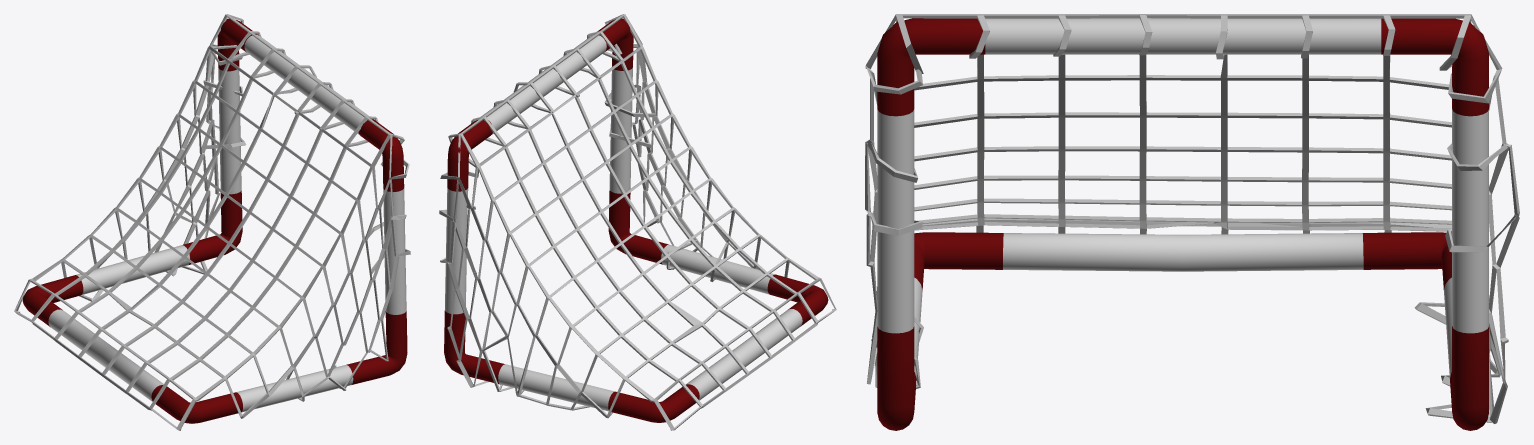
Rendered from kalklae.glb.
The picture shows the model from 3 angles, left to right: view 1: azimuth 30°, elevation 25°; view 2: azimuth 150°, elevation 25°; view 3: azimuth 270°, elevation 25°; orthographic projection. The views are drawn at different scales.
Visible parts, largest first — view 1: Net.2, Tube.1; view 2: Net.2, Tube.1; view 3: Tube.1, Net.2.
Boxes of the visible parts, bbox=[...] form: Net.2: bbox=[14, 14, 410, 430]; Tube.1: bbox=[22, 18, 407, 423]; Net.2: bbox=[439, 14, 836, 430]; Tube.1: bbox=[444, 18, 828, 422]; Tube.1: bbox=[877, 18, 1488, 430]; Net.2: bbox=[865, 14, 1519, 423].
Size of the model in its own units: 426 by 422 by 583.
